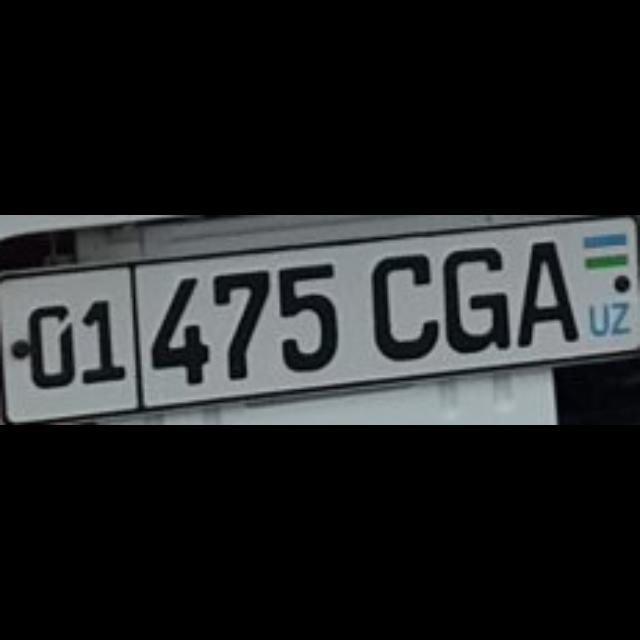0: (22, 301, 70, 384)
1: (78, 295, 122, 381)
4: (147, 273, 205, 381)
5: (274, 259, 336, 367)
7: (211, 267, 269, 378)
A: (512, 237, 576, 345)
C: (369, 251, 435, 359)
G: (438, 243, 507, 351)
